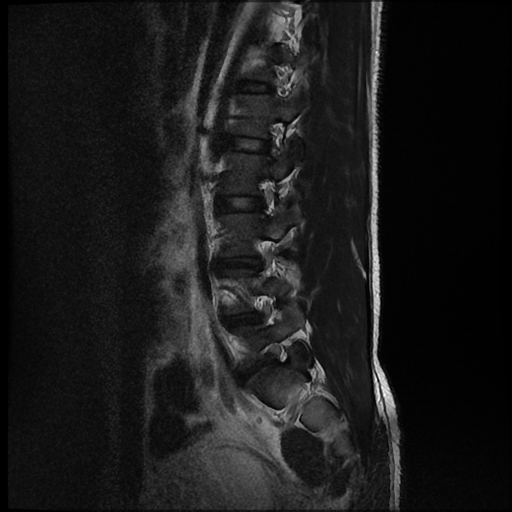RFS0: (249, 111, 292, 166), (246, 171, 285, 224)
RFS1: (253, 330, 294, 378)
